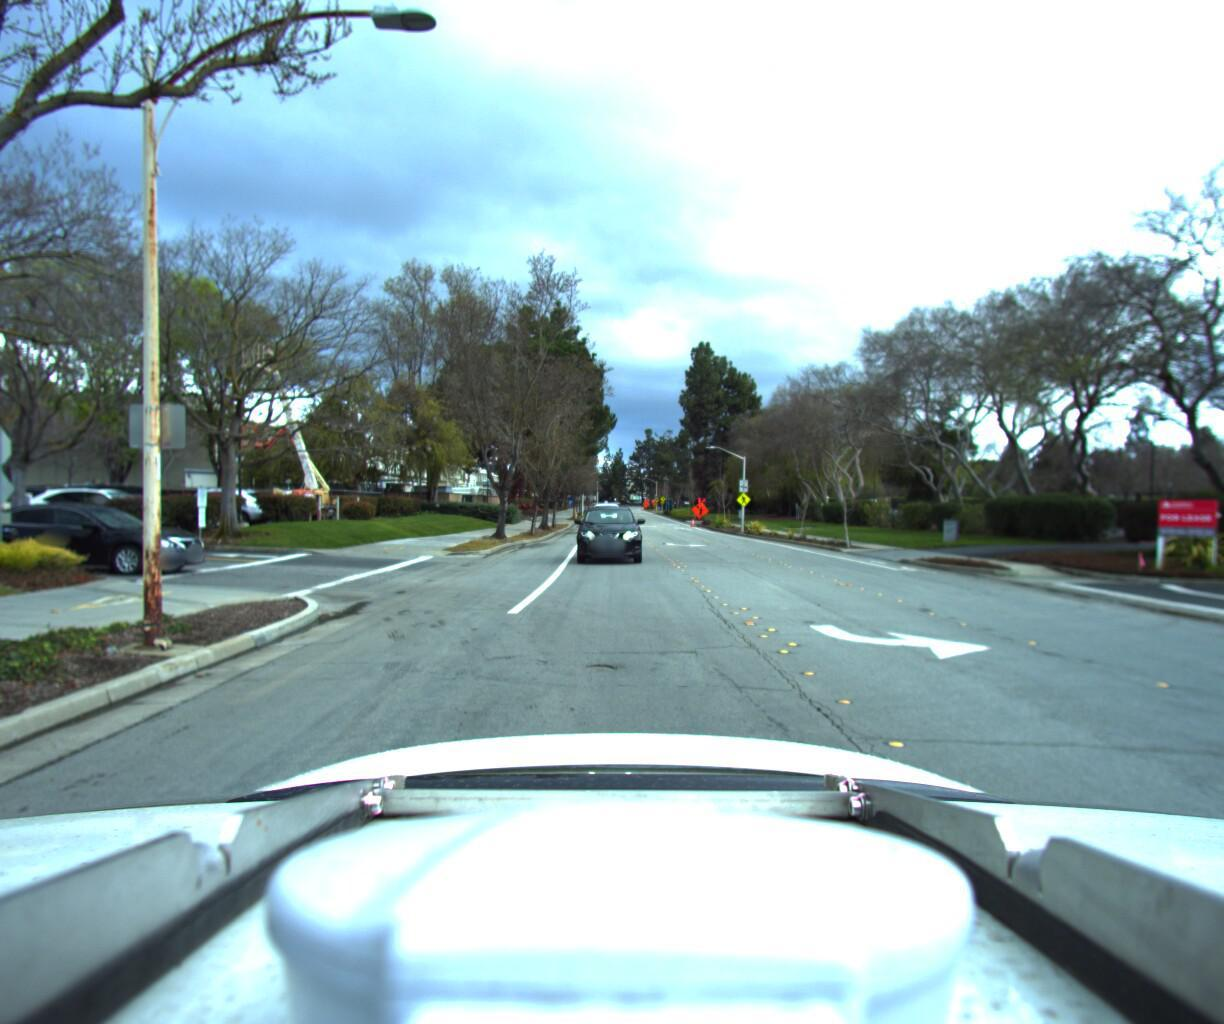car: (0, 498, 224, 575), (572, 499, 639, 562), (586, 494, 622, 526)
